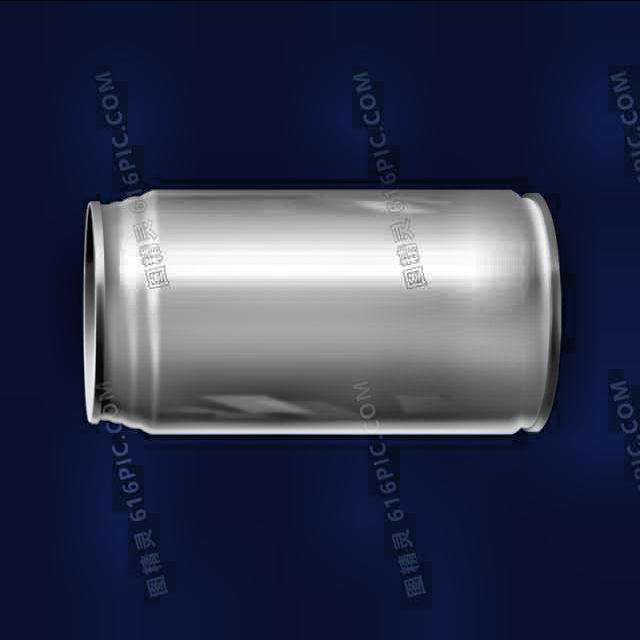litter: (72, 181, 563, 445)
